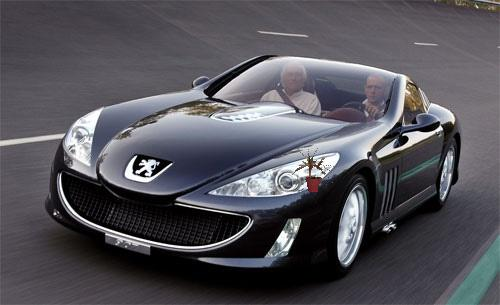tampered: (293, 149, 335, 192)
